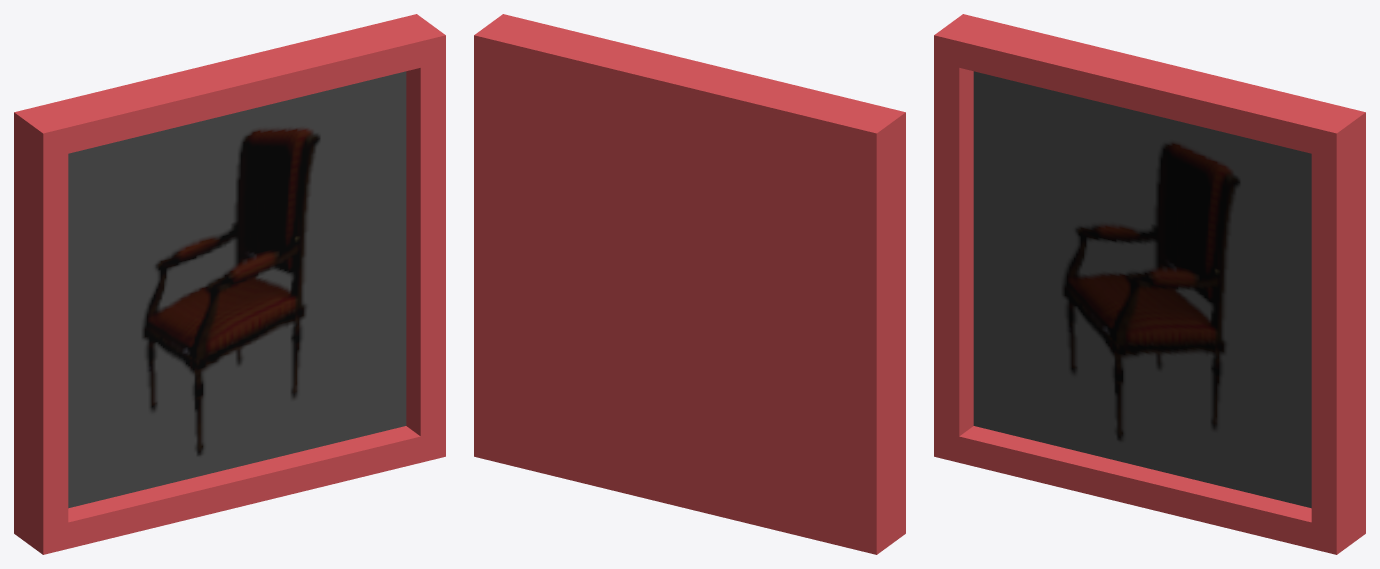
Rendered from ScoringTile.fbx.
The picture shows the model from 3 angles, left to right: view 1: azimuth 30°, elevation 25°; view 2: azimuth 150°, elevation 25°; view 3: azimuth 330°, elevation 25°; orthographic projection.
Visible parts, largest first — view 1: ScoringTileFrame; view 2: ScoringTileFrame; view 3: ScoringTileFrame.
Part boxes in pixels (<box>): ScoringTileFrame: <box>14,14,445,554</box>; ScoringTileFrame: <box>474,14,905,554</box>; ScoringTileFrame: <box>934,14,1365,554</box>.
Size of the model in its own units: 40.64 by 40.64 by 5.08.
